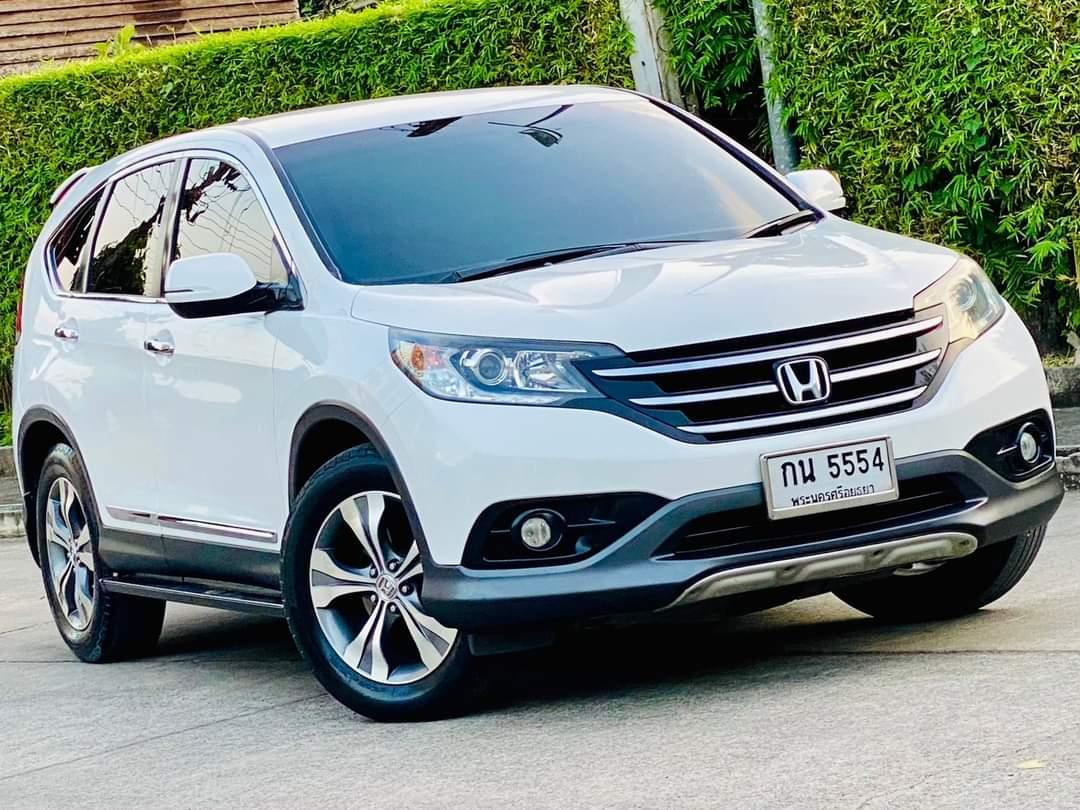license-plate: (755, 432, 903, 522)
